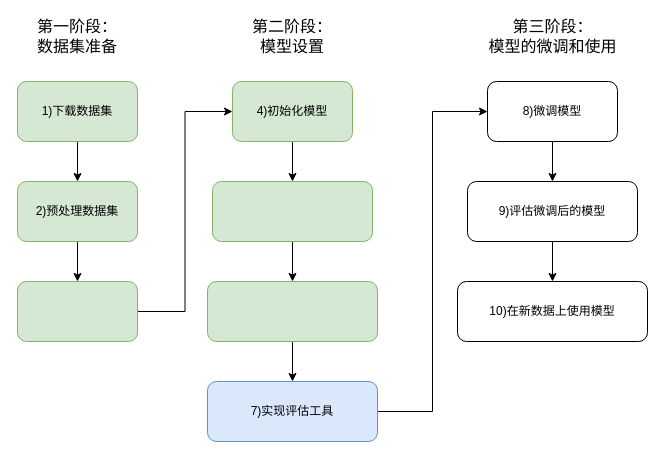
This 665x459 diagram has some shape labels left out. The shapes that lost their labels are listed below. From the top down, each one's centre as x and y in pixels, then its label:
point (292, 211): 5)加载 预训练权重
point (77, 311): 3)创建 数据集加载器
point (292, 311): 6)修改模型 以进行微调
